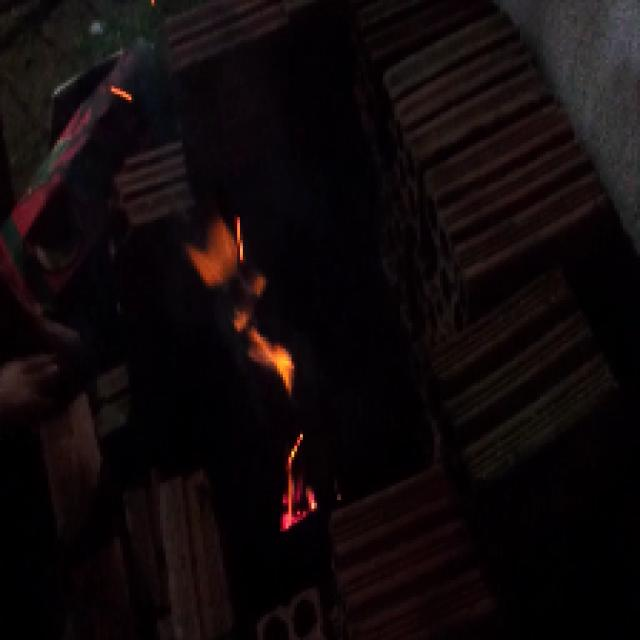fire: (170, 216, 297, 392)
